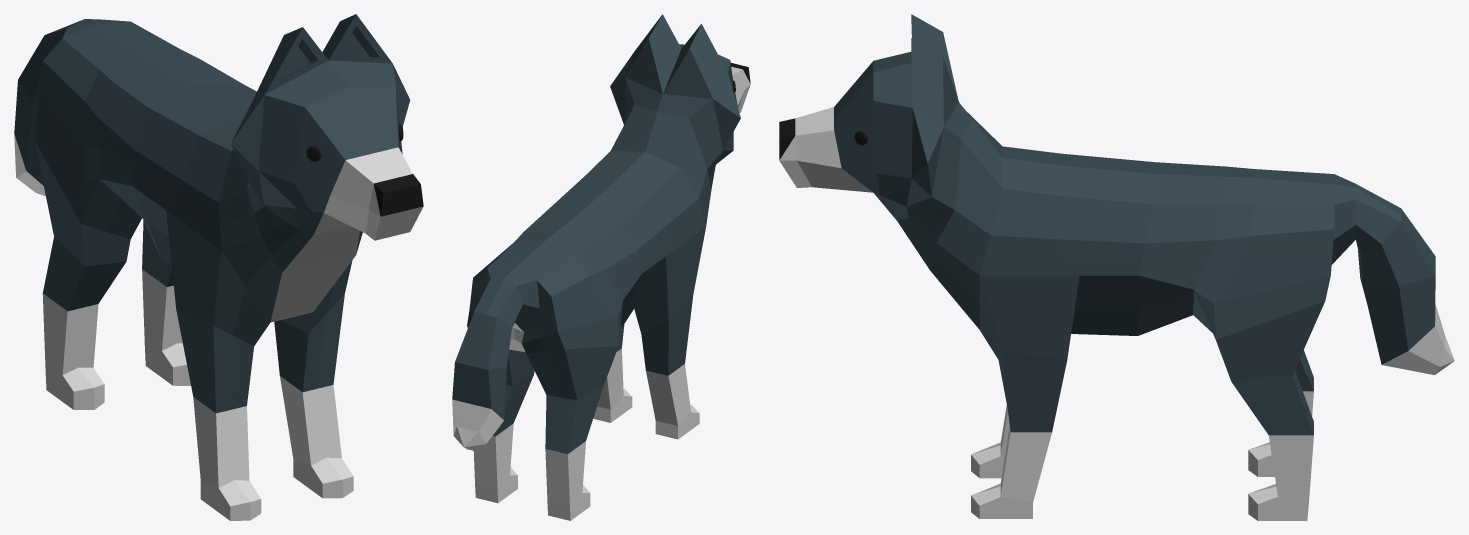
The model's file is Wolf_01.fbx.
3 renders of one model, left to right at view 1: azimuth 30°, elevation 25°; view 2: azimuth 150°, elevation 25°; view 3: azimuth 270°, elevation 25°, orthographic. The views are drawn at different scales.
Visible parts, largest first — view 1: Wolf_01; view 2: Wolf_01; view 3: Wolf_01.
Part boxes in pixels (x1,y1,x2,y2): Wolf_01: [14, 14, 423, 520]; Wolf_01: [452, 14, 750, 520]; Wolf_01: [779, 14, 1454, 520].
Bounding box in the file's own units: 4.38 × 11.97 × 15.71.
